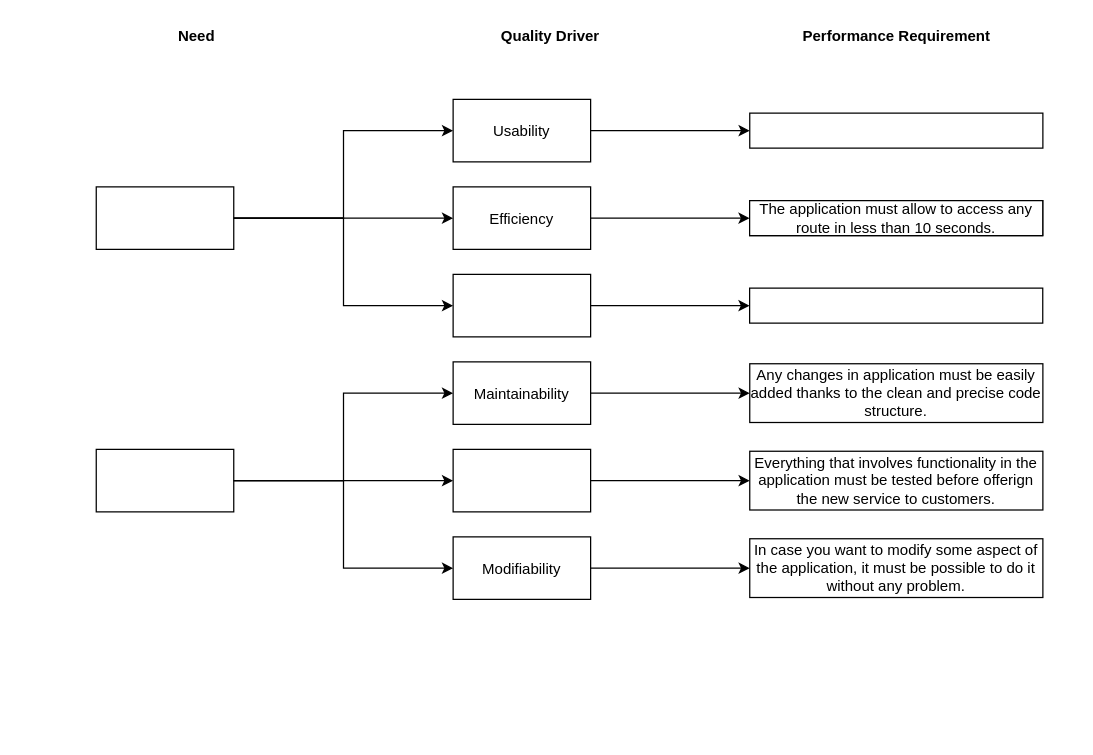
Image size: 1093x755. Some labels were removed from this diagram. The shapes that lost their labels are listed below. From the top down, each one's box as (x1, y1, x2, y2) in pixels, then its label:
(748, 112, 1043, 148): The application must be easy to use for non-technical people.
(95, 186, 234, 249): Routes
(452, 273, 591, 337): Reliability
(748, 287, 1043, 323): All those actions must apperar updatesd in the application.
(95, 448, 234, 512): Code
(452, 448, 591, 512): Testability
